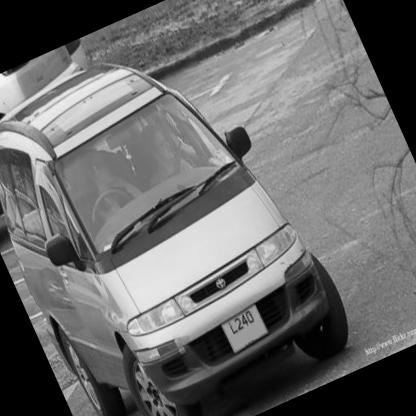car: (1, 12, 374, 416)
